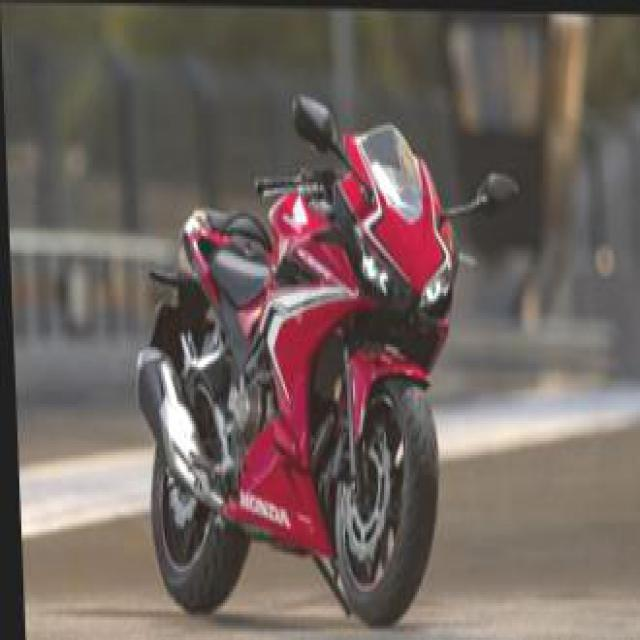CBR500R: (111, 90, 534, 627)
